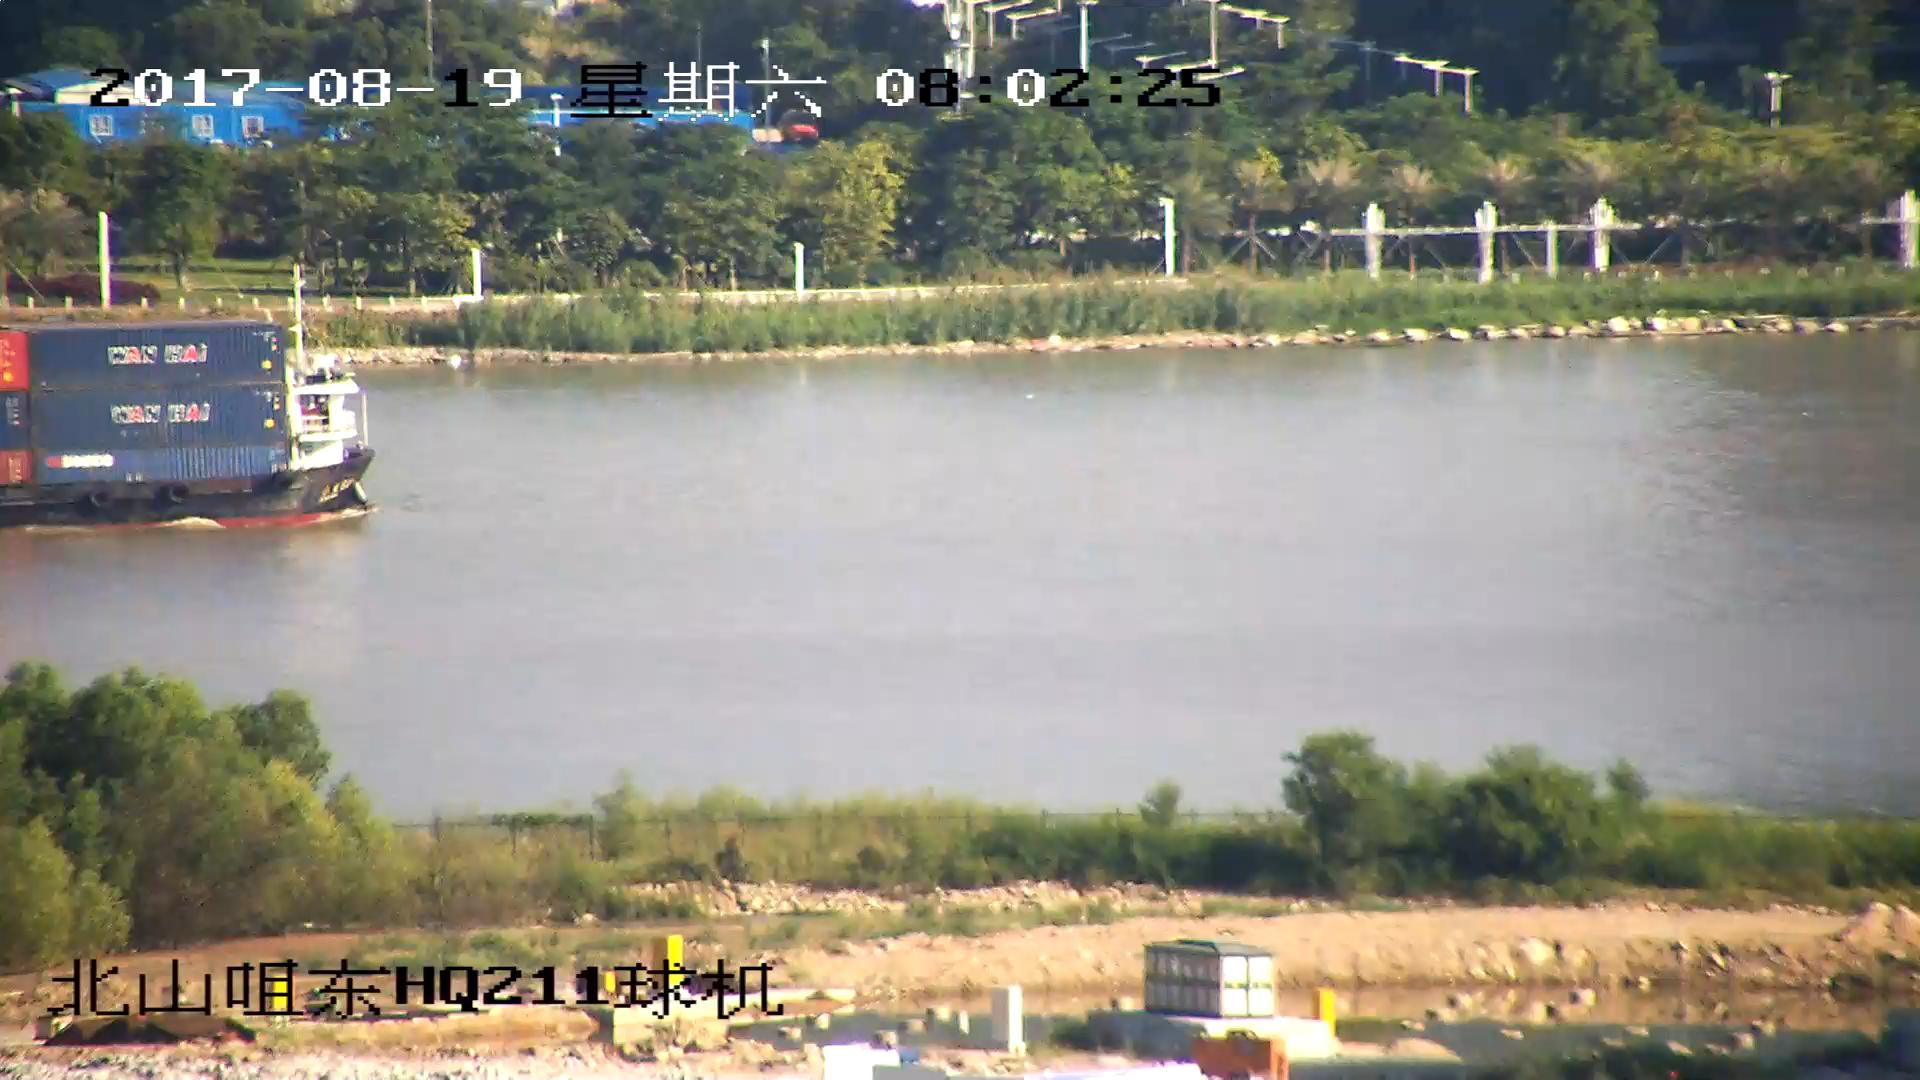container ship: (1, 268, 378, 527)
